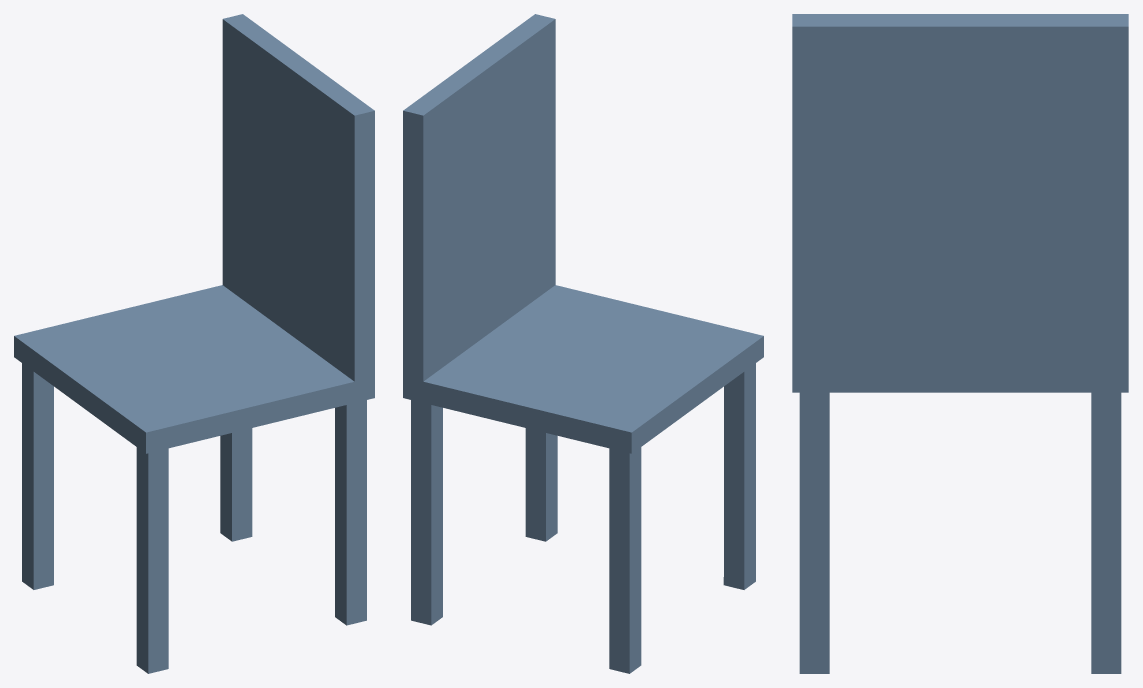
The model's file is chair_03.glb.
3 renders of one model, left to right at view 1: azimuth 30°, elevation 25°; view 2: azimuth 150°, elevation 25°; view 3: azimuth 270°, elevation 25°, orthographic. The views are drawn at different scales.
Visible parts, largest first — view 1: geometry_0; view 2: geometry_0; view 3: geometry_0.
Part boxes in pixels (x1,y1,x2,y2): geometry_0: (14,14,374,673); geometry_0: (403,14,763,673); geometry_0: (792,14,1128,673).
Bounding box in the file's own units: 0.4501 × 0.9601 × 0.4501.
